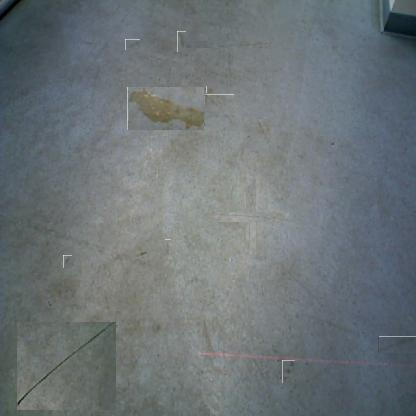liquid: (127, 86, 204, 130), (206, 86, 213, 93)
mark: (18, 322, 118, 410), (206, 20, 252, 68), (229, 196, 273, 238), (204, 95, 235, 127), (246, 122, 274, 148), (378, 336, 416, 353), (203, 317, 219, 355), (282, 360, 295, 383), (184, 1, 198, 15), (177, 31, 186, 52), (125, 39, 140, 50), (62, 256, 73, 267), (137, 247, 147, 258), (166, 239, 172, 256), (329, 139, 337, 149), (48, 302, 52, 310)
